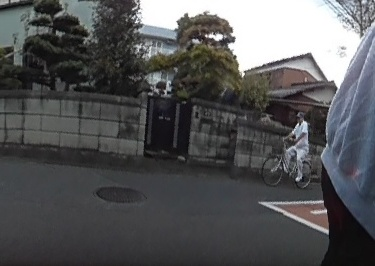person: (283, 110, 310, 182)
